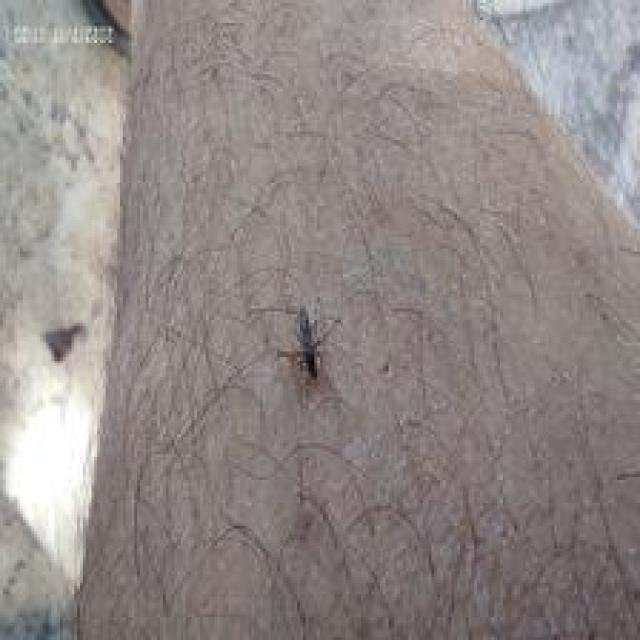Aedes albopictus: (276, 304, 338, 382)
